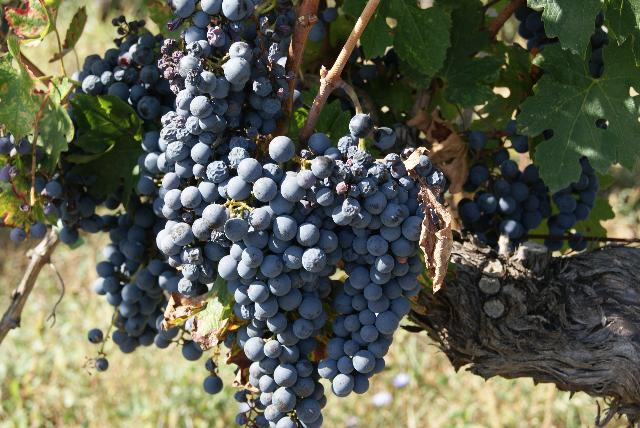grapes: (218, 165, 356, 428), (315, 138, 425, 396)
